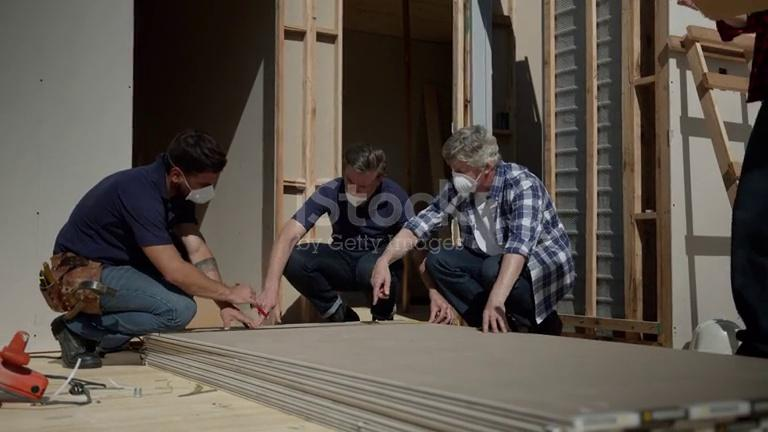mask: (340, 178, 368, 206), (183, 181, 216, 204), (451, 172, 477, 196)
person: (50, 129, 267, 370), (369, 123, 578, 336), (677, 0, 768, 358), (255, 145, 413, 326)
